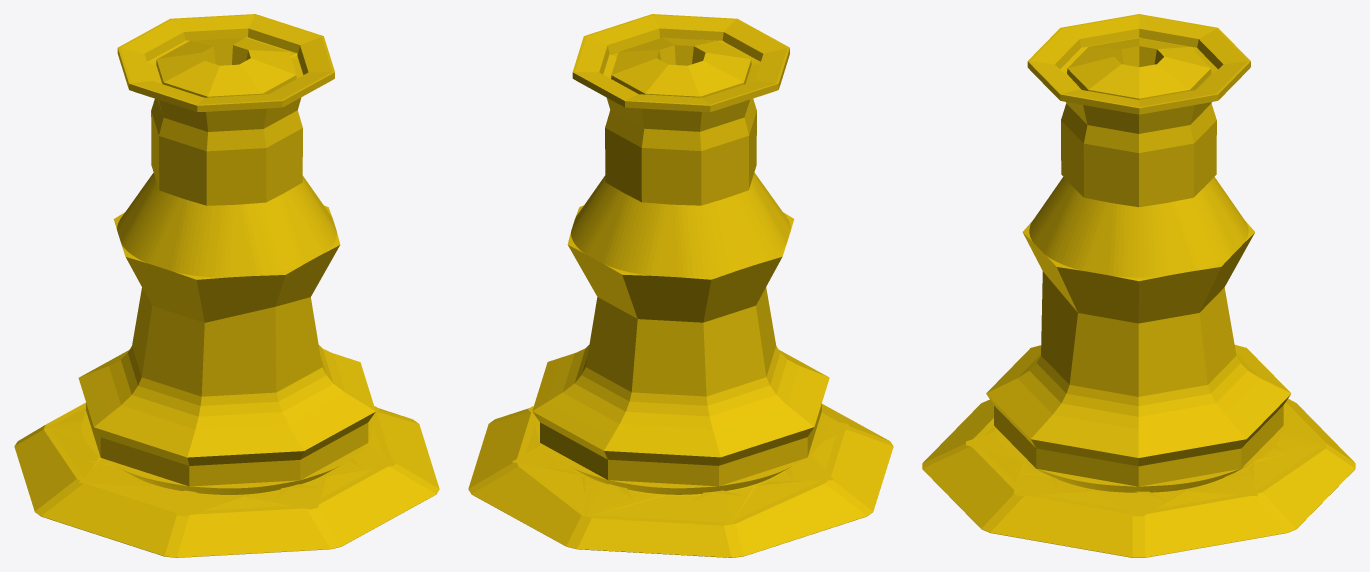
The model's file is candle.fbx.
3 views of the same model, side by side, from view 1: azimuth 30°, elevation 25°; view 2: azimuth 150°, elevation 25°; view 3: azimuth 270°, elevation 25° (orthographic).
Visible parts, largest first — view 1: Cylinder.005; view 2: Cylinder.005; view 3: Cylinder.005.
Boxes of the visible parts, box(x1,y1,x2,y2) form: Cylinder.005: box(14, 14, 439, 557); Cylinder.005: box(468, 14, 893, 557); Cylinder.005: box(922, 14, 1355, 557).
Bounding box in the file's own units: 148 × 158 × 148.
